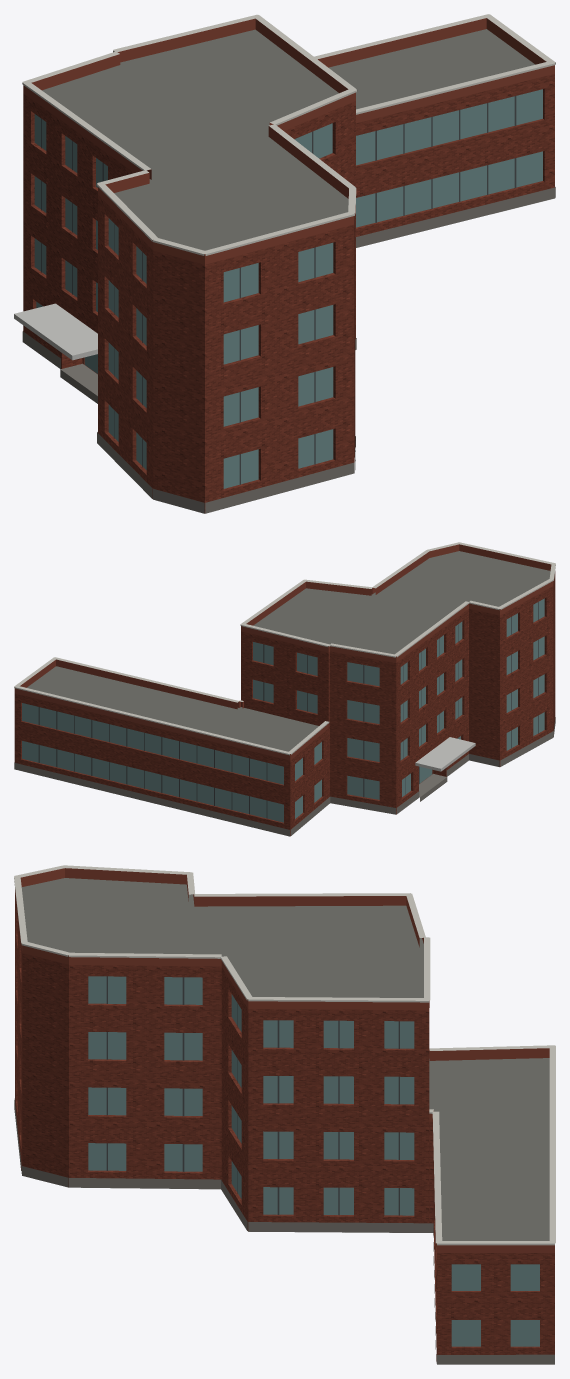
3 views of the same model, one above another, from view 1: azimuth 30°, elevation 25°; view 2: azimuth 150°, elevation 25°; view 3: azimuth 270°, elevation 25° (orthographic). The views are drawn at different scales.
Parts seen in each view (by area): view 1: gyesan__wall, gyesan__roof, gyesan__glass, gyesan__parapet, gyesan__trim, gyesan__base, gyesan__canopy, gyesan__frame; view 2: gyesan__wall, gyesan__roof, gyesan__glass, gyesan__parapet, gyesan__trim, gyesan__base, gyesan__frame, gyesan__canopy; view 3: gyesan__wall, gyesan__roof, gyesan__glass, gyesan__parapet, gyesan__trim, gyesan__base, gyesan__frame.
Part boxes in pixels (<box>): gyesan__wall: <box>23,74,554,513</box>; gyesan__roof: <box>42,29,534,513</box>; gyesan__glass: <box>34,89,542,488</box>; gyesan__parapet: <box>23,18,554,264</box>; gyesan__trim: <box>22,14,555,255</box>; gyesan__base: <box>22,187,555,513</box>; gyesan__canopy: <box>14,303,97,360</box>; gyesan__frame: <box>41,96,516,484</box>; gyesan__wall: <box>14,571,555,836</box>; gyesan__roof: <box>27,551,550,751</box>; gyesan__glass: <box>22,598,544,822</box>; gyesan__parapet: <box>14,544,553,760</box>; gyesan__trim: <box>14,542,555,755</box>; gyesan__base: <box>14,717,555,836</box>; gyesan__frame: <box>38,602,538,818</box>; gyesan__canopy: <box>415,737,475,771</box>; gyesan__wall: <box>15,889,554,1361</box>; gyesan__roof: <box>21,878,549,1240</box>; gyesan__glass: <box>88,976,539,1346</box>; gyesan__parapet: <box>20,868,554,1252</box>; gyesan__trim: <box>14,865,555,1245</box>; gyesan__base: <box>14,1098,554,1364</box>; gyesan__frame: <box>106,976,399,1215</box>.
Size of the model in its own units: 35.02 by 14.6 by 30.03.
9 materials, 1 textured.
